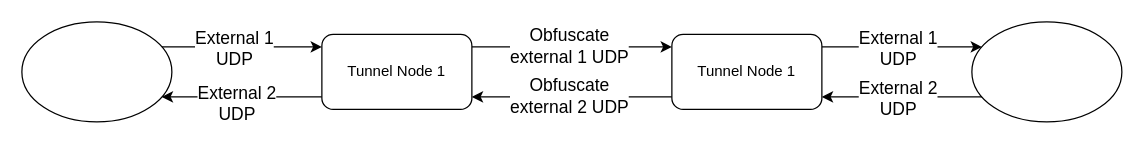
Image size: 1144x156. Some labels were removed from this diagram. The shapes that lost their labels are listed below. From the top down, each one's box as (x1, y1, x2, y2) in pixels, then its label:
(21, 21, 172, 122): External Resource 1
(971, 21, 1122, 122): External Resource 2
